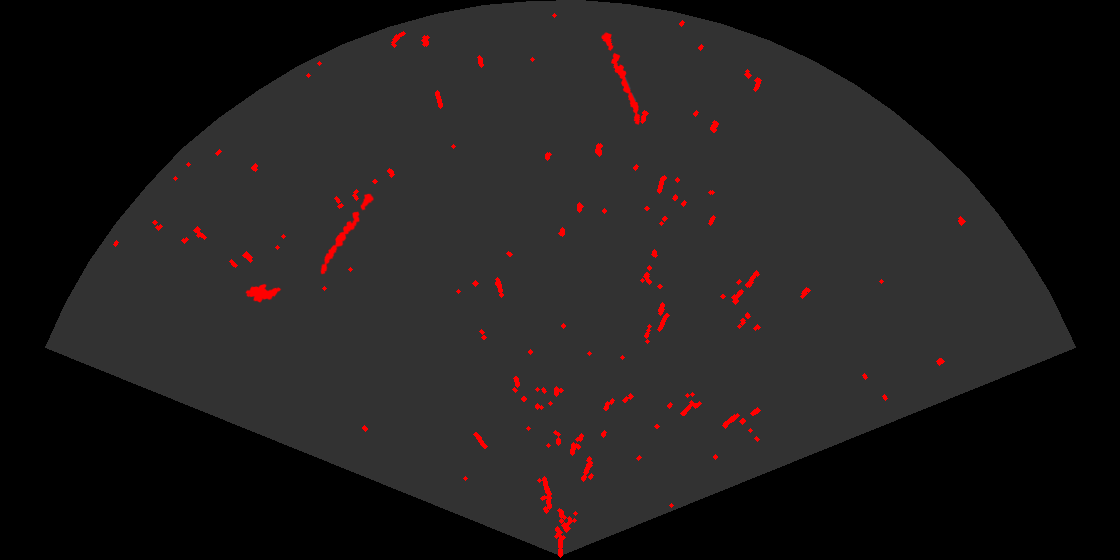AUV: (244, 282, 283, 304)
chain: (319, 192, 376, 276), (600, 30, 642, 126)
